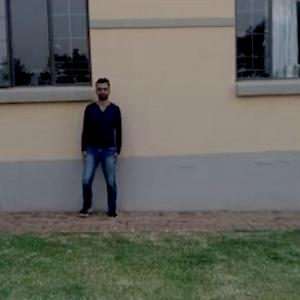follow: (79, 75, 121, 218)
